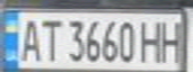0: (115, 17, 139, 64)
3: (63, 17, 87, 62)
6: (81, 17, 103, 63), (100, 17, 121, 63)
A: (15, 16, 45, 63)
H: (157, 16, 190, 63), (136, 17, 166, 64)
T: (36, 16, 63, 63)
